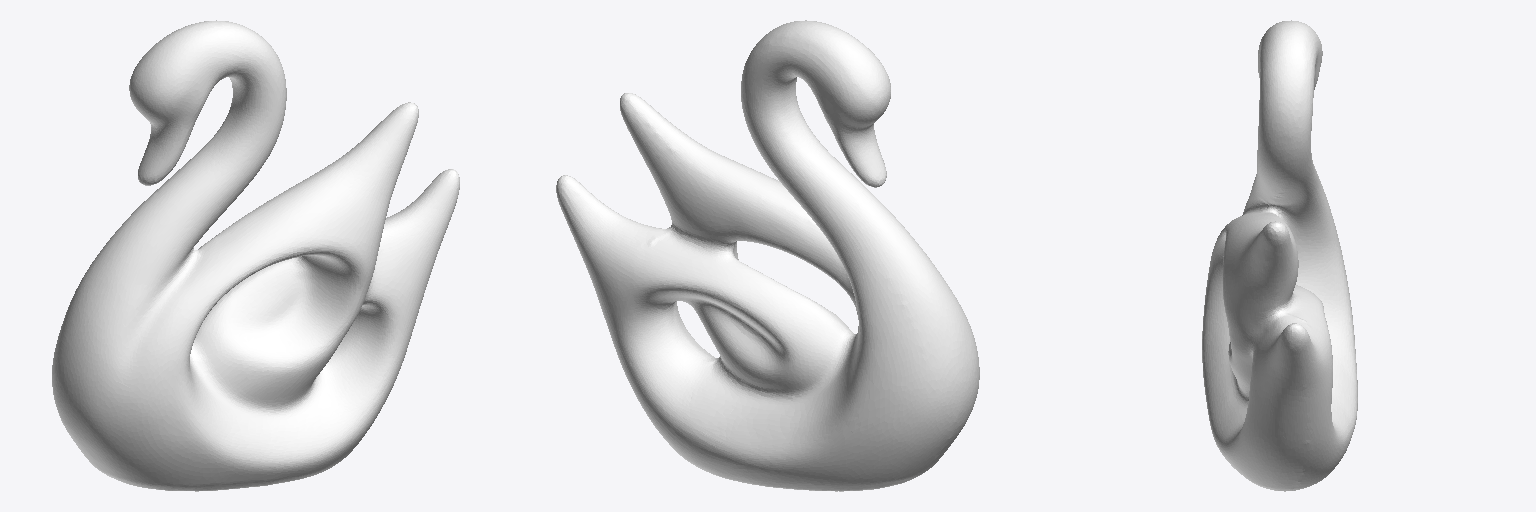
URDF robot description (model.urdf):
<robot name="model.urdf">
    <link name="baseLink">
        <contact>
            <lateral_friction value="0.3"/>
            <rolling_friction value="0.001"/>
            <spinning_friction value="0.001"/>
            <contact_cfm value="0.0"/>
            <contact_erp value="1.0"/>
        </contact>
        <inertial>
            <origin rpy="0.135 0.07 1.307963" xyz="-0.03 0.0 0.02"/>
            <mass value="0.6"/>
            <inertia ixx="1e-3" ixy="0" ixz="0" iyy="1e-3" iyz="0" izz="1e-3"/>
        </inertial>
        <visual>
            <geometry>
                <mesh filename="nontextured.stl" scale="1 1 1"/>
            </geometry>
            <material name="white">
                <color rgba="1 1 1 1"/>
            </material>
        </visual>
        <collision>
            <geometry>
                <mesh filename="nontextured.stl" scale="1 1 1"/>
            </geometry>
        </collision>
    </link>
</robot>

--- Facts derived from the render (not from the file) ---
3 views of the same robot in one strip: view 1: azimuth 30°, elevation 25°; view 2: azimuth 150°, elevation 25°; view 3: azimuth 270°, elevation 25° (orthographic).
Model model.urdf with 1 links and 0 joints (none), rooted at baseLink, posed every joint at zero.
Links seen in each view (by area): view 1: baseLink; view 2: baseLink; view 3: baseLink.
Link boxes in pixels (box(x1,y1,x2,y2)): baseLink: box(52, 20, 459, 491); baseLink: box(556, 20, 979, 491); baseLink: box(1202, 20, 1357, 491).
Bounding box of the posed robot: 0.1683 × 0.0624 × 0.1822 m (x, y, z).
1 mesh visuals loaded from 1 distinct referenced files (1 binary STL).